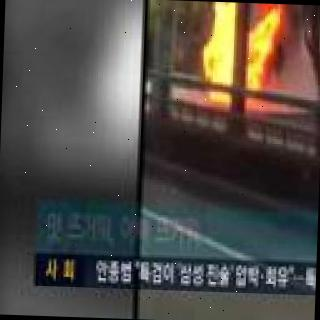fire: (192, 9, 289, 110)
